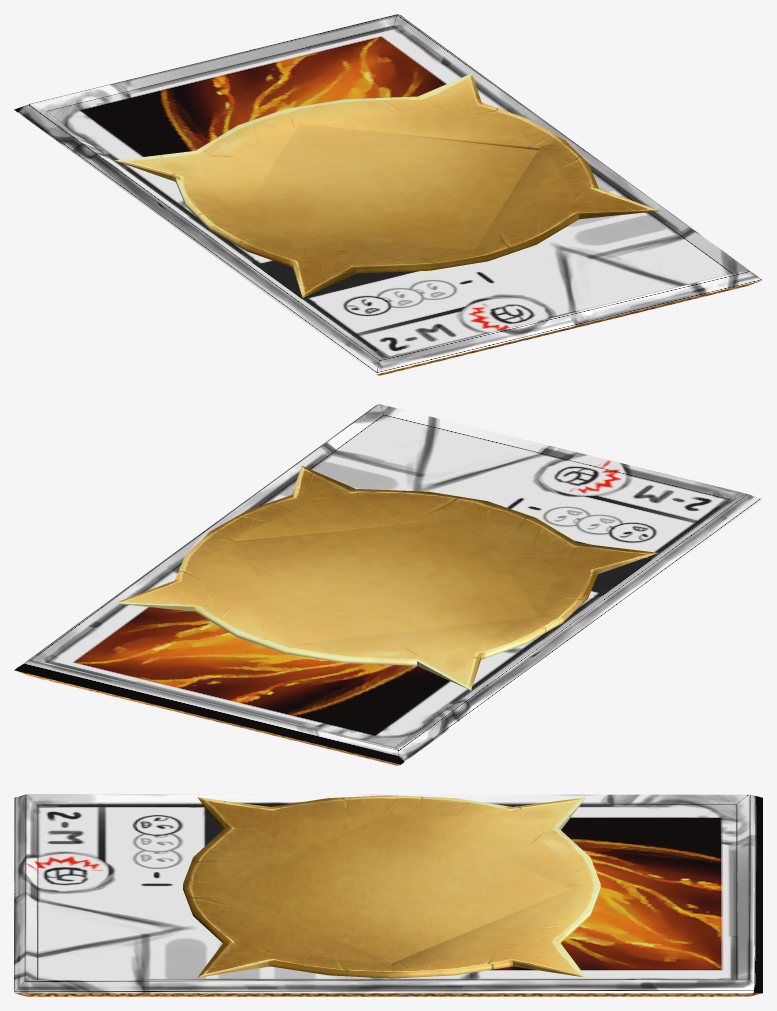
Rendered from GeMma_card_v2_Result_model.FBX.
3 views of the same model, one above another, from view 1: azimuth 30°, elevation 25°; view 2: azimuth 150°, elevation 25°; view 3: azimuth 270°, elevation 25° (orthographic). The views are drawn at different scales.
Visible parts, largest first — view 1: Card_result, Card_icon004; view 2: Card_result, Card_icon004; view 3: Card_result, Card_icon004.
Boxes of the visible parts, x1,y1,x2,y2 form: Card_result: [14, 14, 762, 375]; Card_icon004: [115, 73, 659, 297]; Card_result: [14, 404, 762, 765]; Card_icon004: [114, 466, 658, 690]; Card_result: [14, 794, 762, 996]; Card_icon004: [183, 795, 600, 978].
Size of the model in its own units: 44.7 by 2.09 by 72.42.
